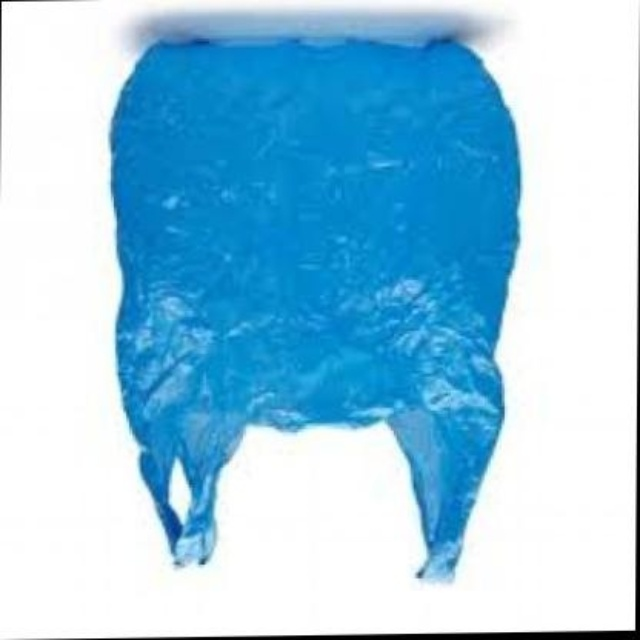trash: (112, 40, 518, 580)
